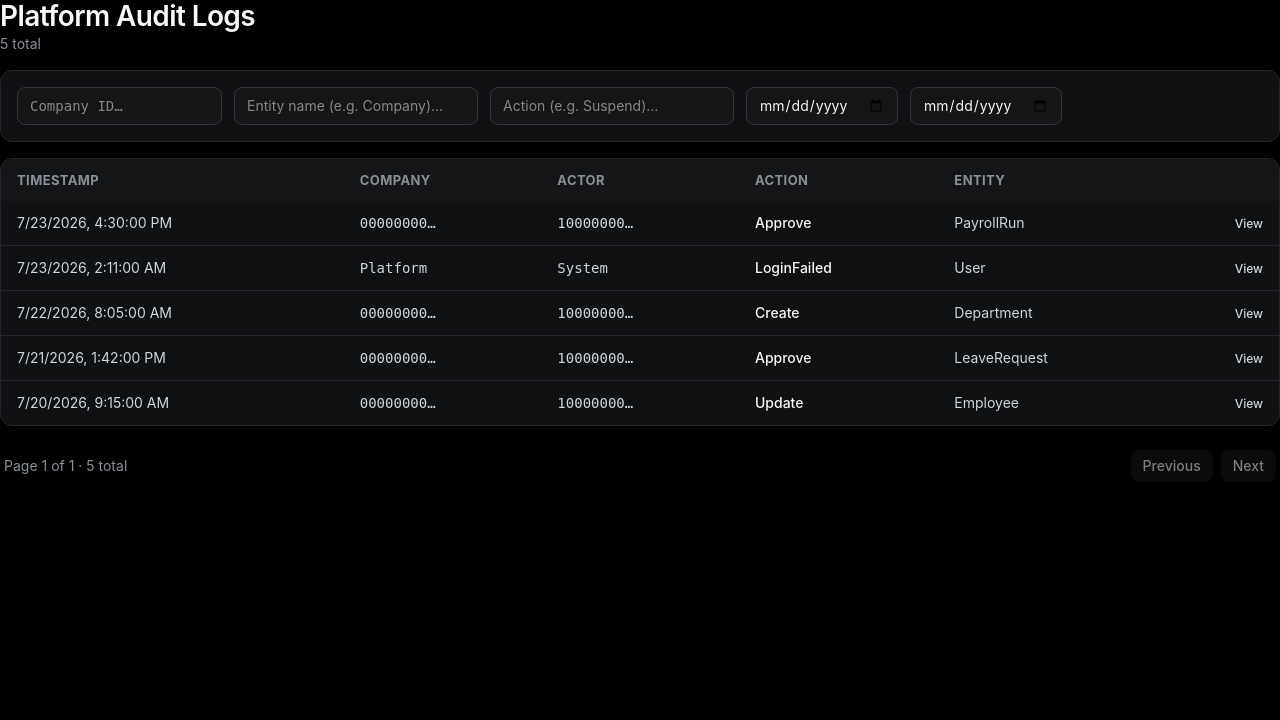
Test: PlatformAuditLogsPage › opens the detail modal for a log entry
Click the button "View" in the row of "7/23/2026, 4:30:00 PM" at x=1249, y=224, box [1235, 216, 1263, 232]
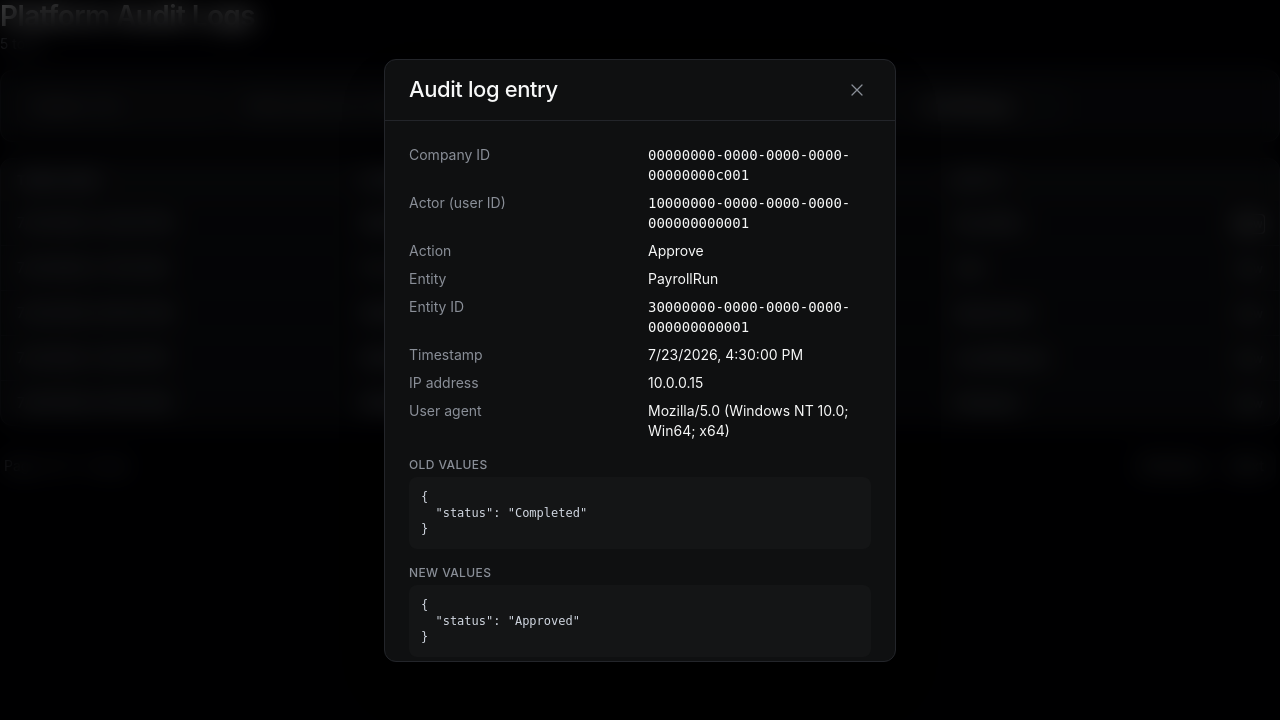
Result: the dialog "Audit log entry" is shown at [384, 58, 896, 662]
